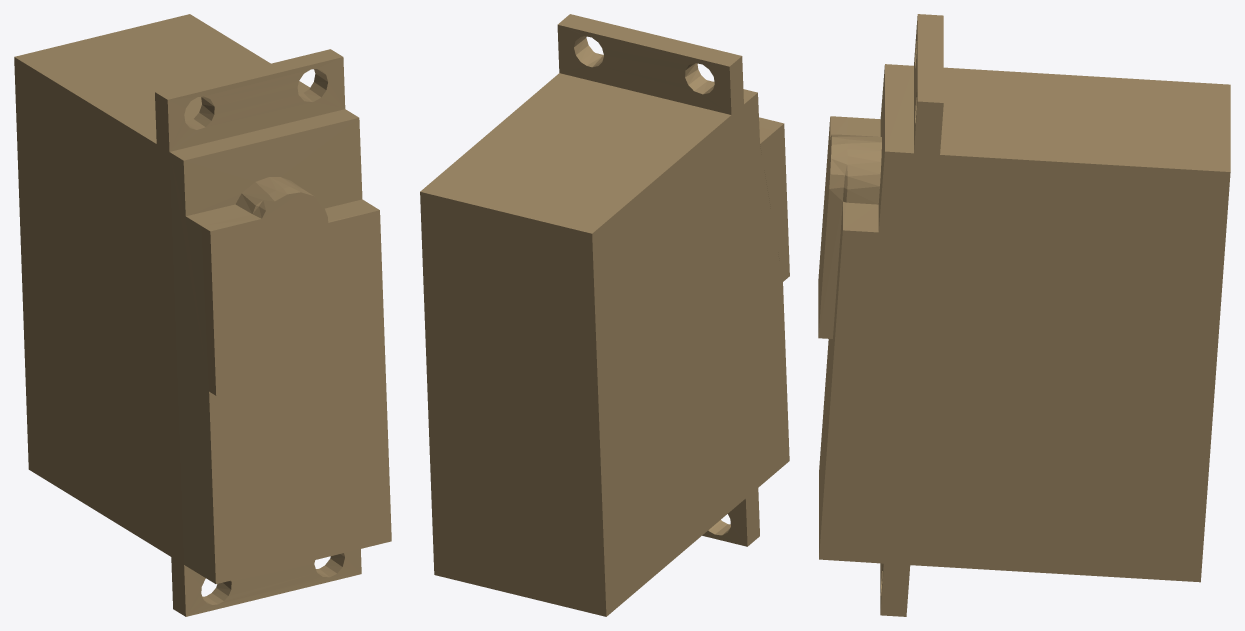
The model's file is Texture.245.dae.full.glb.
3 views of the same model, side by side, from view 1: azimuth 30°, elevation 25°; view 2: azimuth 150°, elevation 25°; view 3: azimuth 270°, elevation 25° (orthographic). The views are drawn at different scales.
Bounding box in the file's own units: 0.2828 × 0.7762 × 0.5625.
